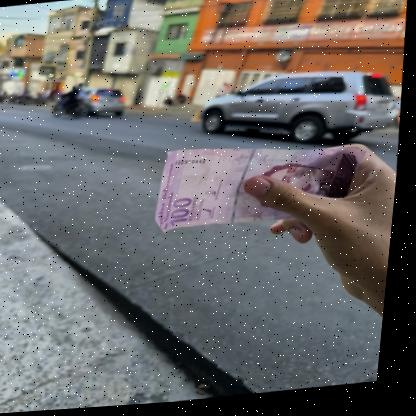one_hundred-front-vef: (155, 136, 374, 237)
